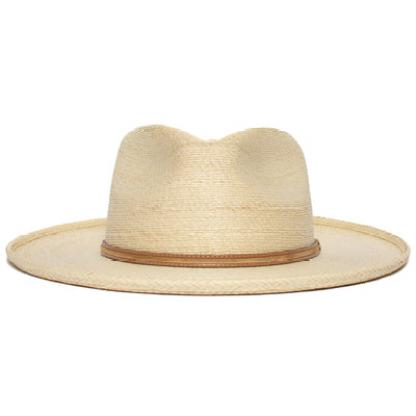hat: (3, 122, 413, 298)
